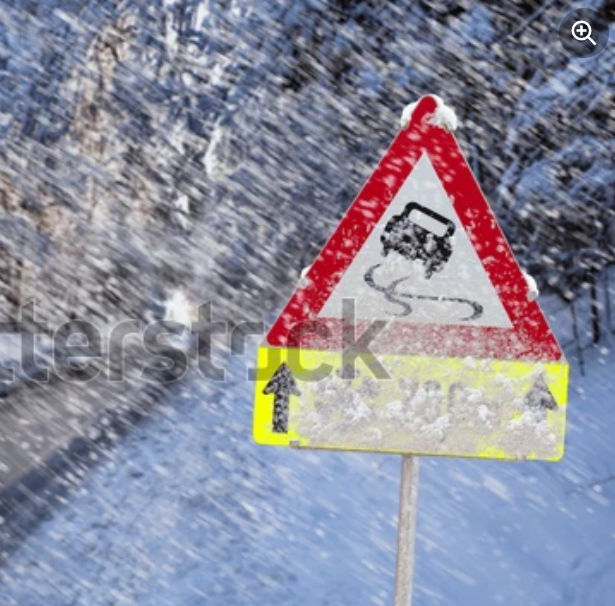Slippery road: (269, 83, 575, 368)
